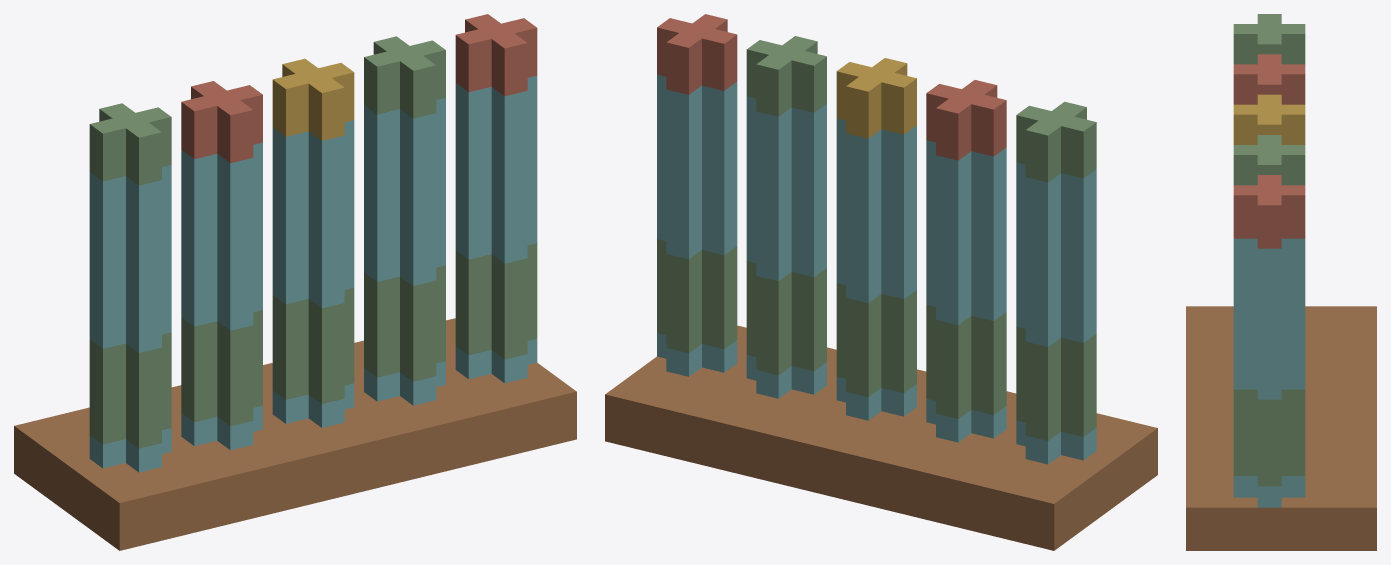
Rendered from climate-12.glb.
3 views of the same model, side by side, from view 1: azimuth 30°, elevation 25°; view 2: azimuth 150°, elevation 25°; view 3: azimuth 270°, elevation 25° (orthographic). The views are drawn at different scales.
Parts seen in each view (by area): view 1: Water testing kit; view 2: Water testing kit; view 3: Water testing kit.
Boxes of the visible parts, x1,y1,x2,y2 form: Water testing kit: (14, 14, 576, 550); Water testing kit: (605, 14, 1157, 550); Water testing kit: (1186, 14, 1376, 550).
Bounding box in the file's own units: 1.6 × 1.28 × 0.64.
